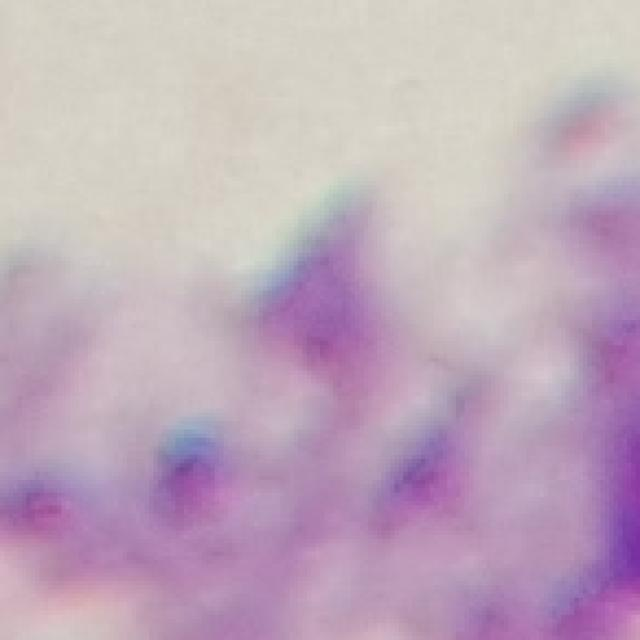non-sperm: (146, 190, 440, 523)
